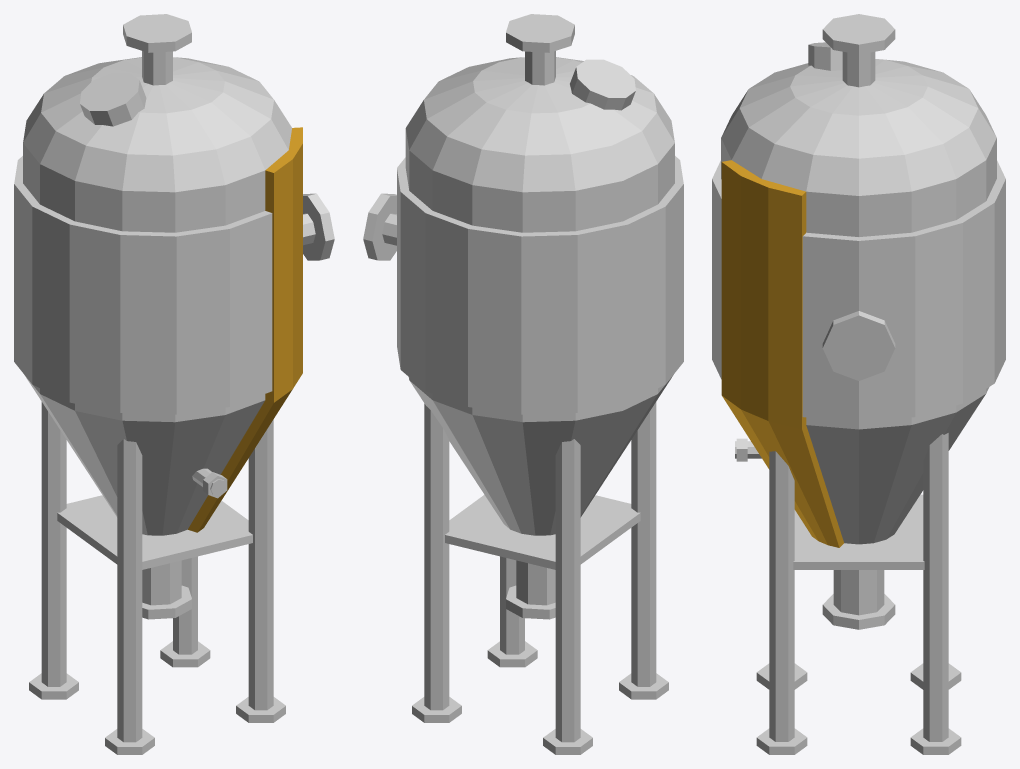
File: fermenter.glb
The picture shows the model from 3 angles, left to right: view 1: azimuth 30°, elevation 25°; view 2: azimuth 150°, elevation 25°; view 3: azimuth 270°, elevation 25°; orthographic projection.
Visible parts, largest first — view 1: shell, jacket, liquid, leg.3, leg.0, leg.2, brace, manway, cip.nozzle.flange, leg.1, outlet, glycol.flange (+6 smaller); view 2: jacket, shell, leg.2, leg.1, leg.3, brace, manway, cip.nozzle.flange, leg.0, outlet, glycol.flange, cip.arm (+5 smaller); view 3: shell, jacket, liquid, leg.1, leg.0, brace, glycol.flange, outlet, cip.nozzle.flange, outlet.flange, cip.arm, leg.0.foot (+5 smaller).
Boxes of the visible parts, left/top/right/bottom form: shell: left=23, top=57, right=291, bottom=535; jacket: left=14, top=156, right=272, bottom=414; liquid: left=188, top=127, right=302, bottom=532; leg.3: left=117, top=439, right=142, bottom=742; leg.0: left=248, top=419, right=273, bottom=710; leg.2: left=41, top=402, right=66, bottom=686; brace: left=57, top=495, right=252, bottom=569; manway: left=80, top=72, right=146, bottom=126; cip.nozzle.flange: left=123, top=14, right=191, bottom=52; leg.1: left=173, top=556, right=197, bottom=654; outlet: left=142, top=560, right=181, bottom=605; glycol.flange: left=303, top=193, right=334, bottom=260; jacket: left=397, top=156, right=683, bottom=414; shell: left=405, top=57, right=674, bottom=535; leg.2: left=555, top=439, right=580, bottom=742; leg.1: left=424, top=403, right=449, bottom=710; leg.3: left=631, top=402, right=656, bottom=686; brace: left=445, top=495, right=640, bottom=569; manway: left=570, top=59, right=635, bottom=110; cip.nozzle.flange: left=506, top=14, right=574, bottom=52; leg.0: left=500, top=556, right=524, bottom=654; outlet: left=516, top=560, right=555, bottom=605; glycol.flange: left=363, top=193, right=396, bottom=260; cip.arm: left=525, top=51, right=555, bottom=85; shell: left=721, top=59, right=996, bottom=544; jacket: left=712, top=160, right=1005, bottom=421; liquid: left=721, top=160, right=843, bottom=547; leg.1: left=923, top=433, right=948, bottom=741; leg.0: left=769, top=451, right=794, bottom=741; brace: left=793, top=494, right=924, bottom=569; glycol.flange: left=822, top=311, right=895, bottom=380; outlet: left=833, top=570, right=884, bottom=615; cip.nozzle.flange: left=822, top=14, right=895, bottom=54; outlet.flange: left=822, top=594, right=895, bottom=629; cip.arm: left=842, top=51, right=875, bottom=87; leg.0.foot: left=756, top=728, right=807, bottom=754.
Size of the model in its own units: 0.92 by 2.08 by 0.81.
